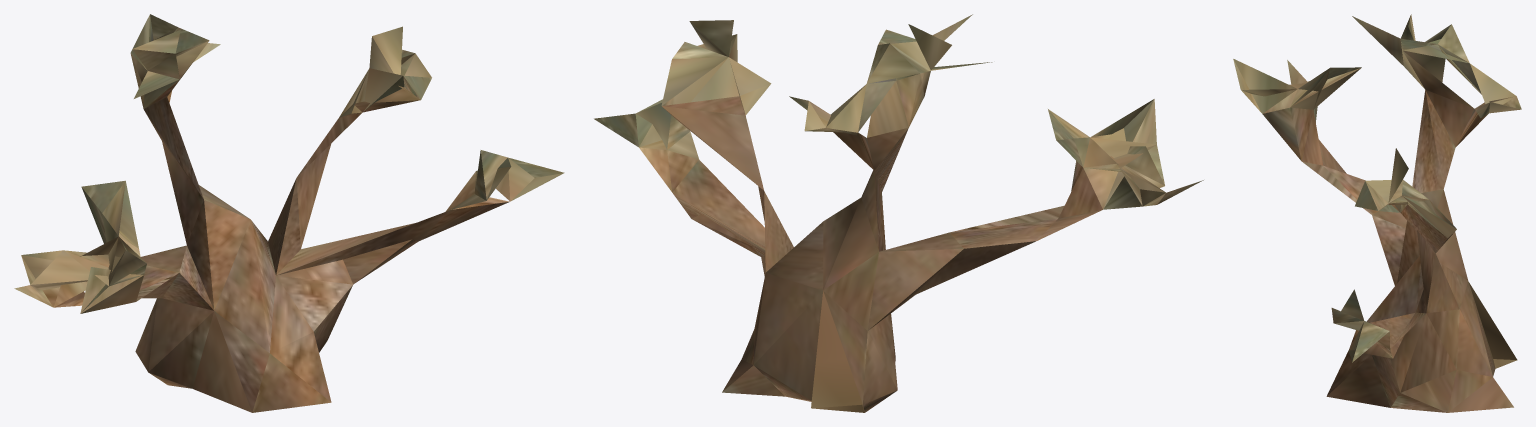
File: de_dustysage_shrub_lod2.glb
The picture shows the model from 3 angles, left to right: view 1: azimuth 30°, elevation 25°; view 2: azimuth 150°, elevation 25°; view 3: azimuth 270°, elevation 25°; orthographic projection. The views are drawn at different scales.
Visible parts, largest first — view 1: mesh; view 2: mesh; view 3: mesh.
Boxes of the visible parts, x1,y1,x2,y2 form: mesh: [14, 14, 564, 412]; mesh: [594, 14, 1203, 412]; mesh: [1233, 14, 1521, 412].
Bounding box in the file's own units: 1.65 × 1.02 × 0.7891.
Materials: 1 (1 with a texture image).
